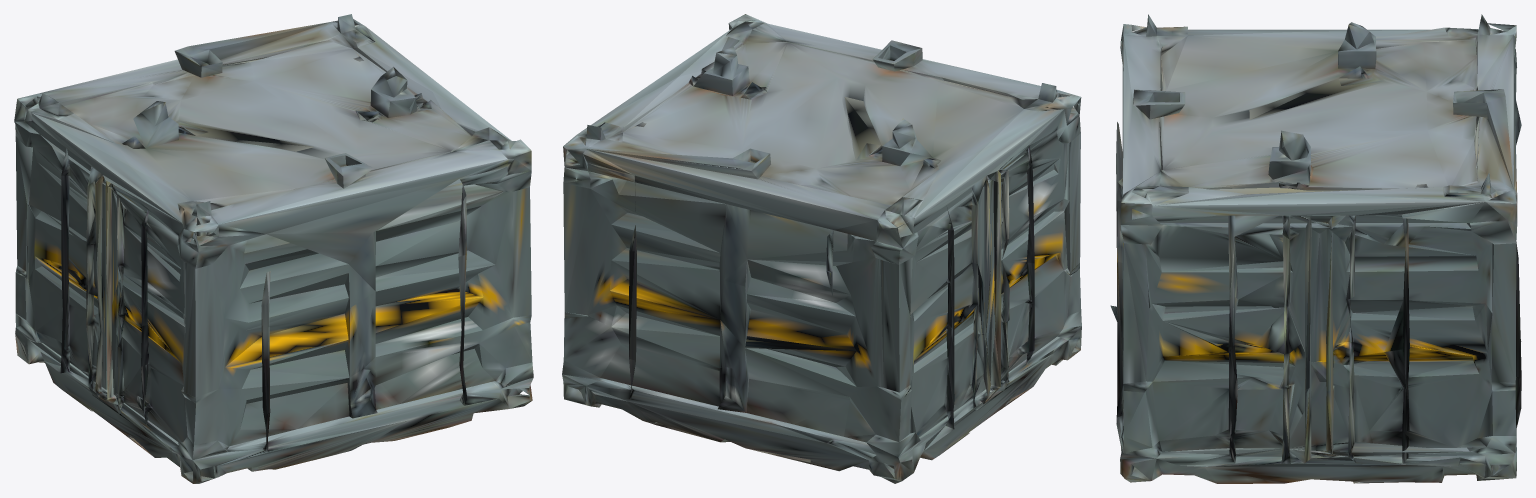
Rendered from cover_half_dock_v1.glb.
3 views of the same model, side by side, from view 1: azimuth 30°, elevation 25°; view 2: azimuth 150°, elevation 25°; view 3: azimuth 270°, elevation 25° (orthographic). The views are drawn at different scales.
Bounding box in the file's own units: 0.9765 × 0.7941 × 0.919.
1 material, 1 textured.
